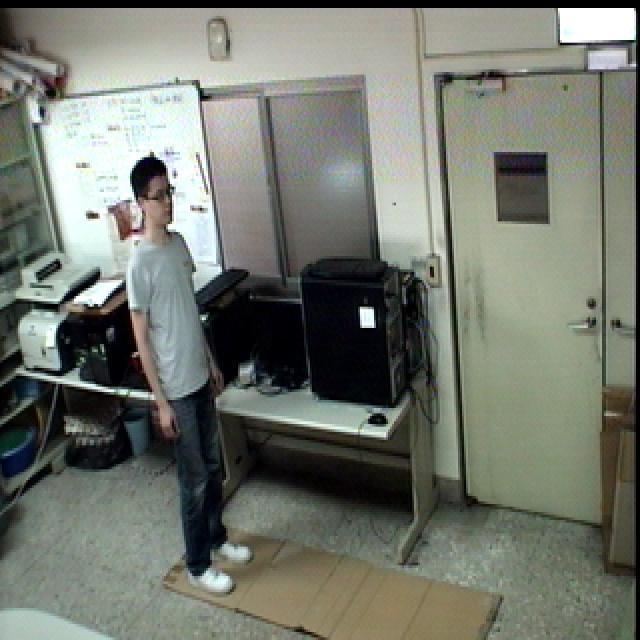stand: (120, 148, 263, 601)
